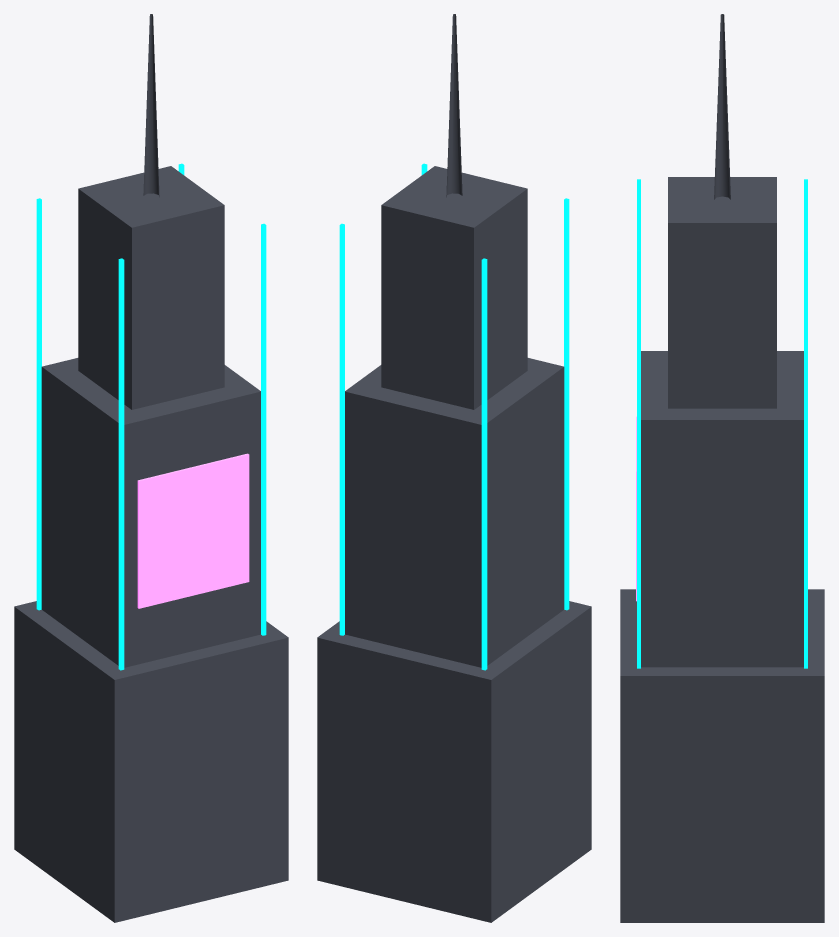
File: cyber_skyscraper_tower.glb
3 views of the same model, side by side, from view 1: azimuth 30°, elevation 25°; view 2: azimuth 150°, elevation 25°; view 3: azimuth 270°, elevation 25° (orthographic).
Parts seen in each view (by area): view 1: RootNode; view 2: RootNode; view 3: RootNode.
Part boxes in pixels (x1,y1,x2,y2): RootNode: [14, 14, 288, 922]; RootNode: [317, 14, 591, 922]; RootNode: [620, 14, 824, 922].
Size of the model in its own units: 6 by 28 by 6.
